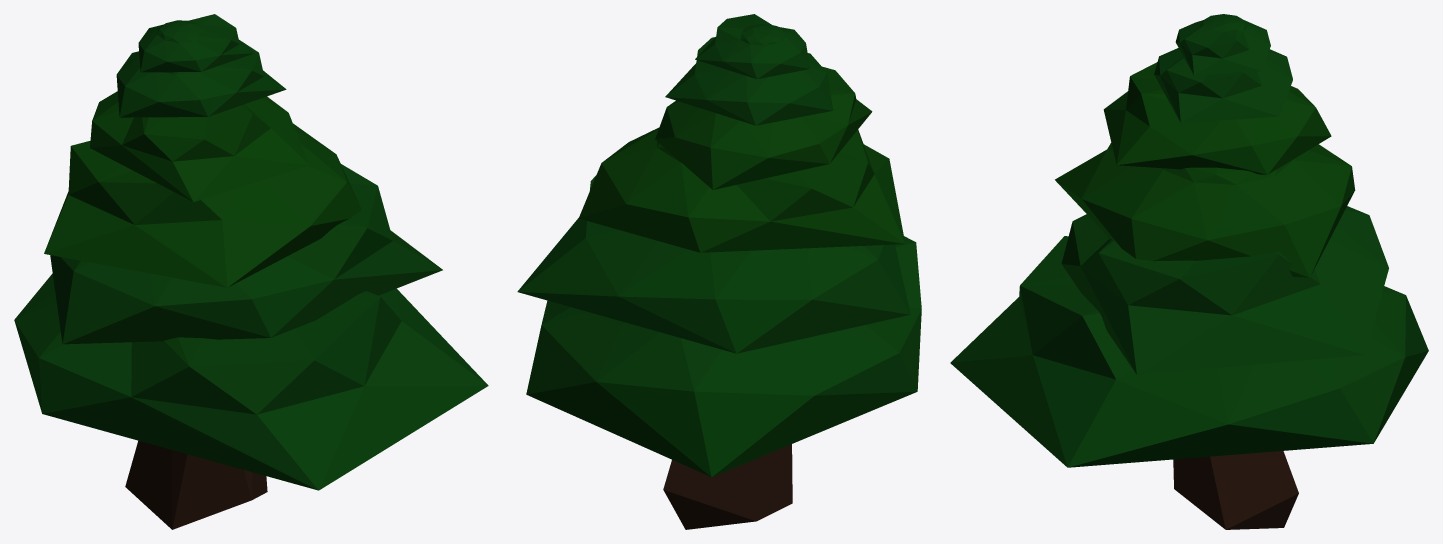
File: tree3.obj
The picture shows the model from 3 angles, left to right: view 1: azimuth 30°, elevation 25°; view 2: azimuth 150°, elevation 25°; view 3: azimuth 270°, elevation 25°; orthographic projection. The views are drawn at different scales.
Visible parts, largest first — view 1: Icosphere, Icosphere.002, Icosphere.001, Icosphere.003, Cube, Icosphere.004, Icosphere.005; view 2: Icosphere, Icosphere.001, Icosphere.002, Icosphere.003, Cube, Icosphere.004, Icosphere.005; view 3: Icosphere, Icosphere.001, Icosphere.002, Icosphere.003, Cube, Icosphere.004, Icosphere.005.
Boxes of the visible parts, bbox=[...] form: Icosphere: bbox=[14, 273, 488, 490]; Icosphere.002: bbox=[44, 123, 361, 287]; Icosphere.001: bbox=[50, 164, 442, 344]; Icosphere.003: bbox=[90, 91, 309, 201]; Cube: bbox=[125, 440, 267, 529]; Icosphere.004: bbox=[116, 39, 286, 117]; Icosphere.005: bbox=[138, 14, 254, 72]; Icosphere: bbox=[526, 236, 921, 477]; Icosphere.001: bbox=[517, 175, 910, 353]; Icosphere.002: bbox=[578, 127, 905, 252]; Icosphere.003: bbox=[655, 66, 872, 189]; Cube: bbox=[663, 444, 792, 529]; Icosphere.004: bbox=[665, 37, 833, 125]; Icosphere.005: bbox=[695, 14, 810, 79]; Icosphere: bbox=[950, 236, 1428, 467]; Icosphere.001: bbox=[1061, 206, 1388, 375]; Icosphere.002: bbox=[1055, 143, 1355, 277]; Icosphere.003: bbox=[1103, 62, 1331, 174]; Cube: bbox=[1173, 451, 1298, 529]; Icosphere.004: bbox=[1154, 48, 1292, 122]; Icosphere.005: bbox=[1175, 14, 1270, 75].
Size of the model in its own units: 1.58 by 2.03 by 1.81.
